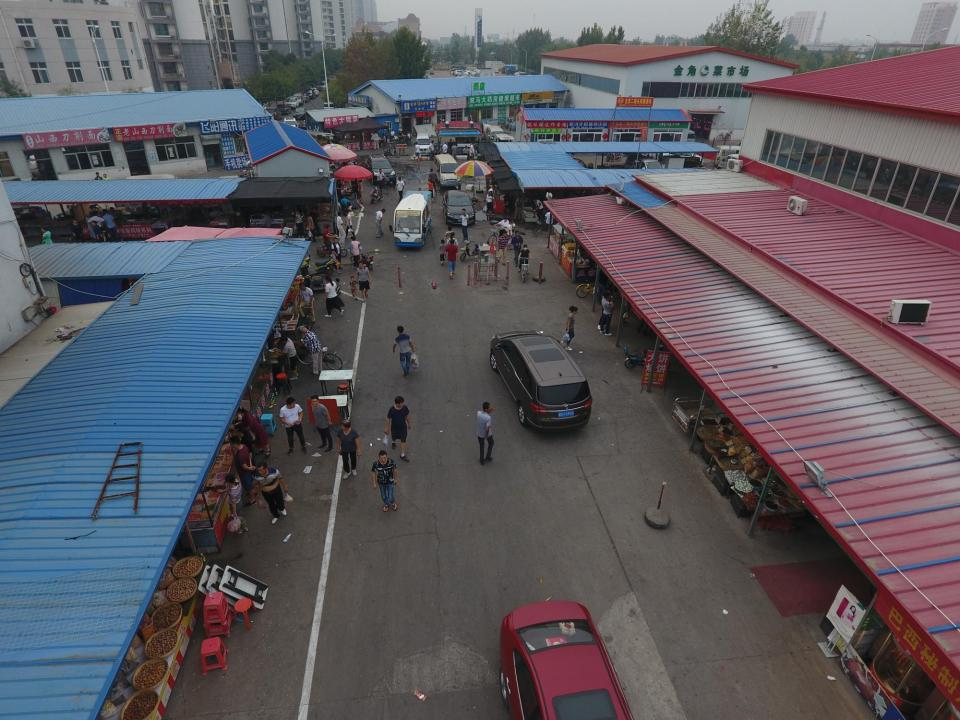bus: (389, 190, 432, 246)
car: (442, 189, 476, 226), (659, 148, 703, 166), (293, 108, 308, 120), (300, 93, 310, 103), (308, 88, 319, 96)
truck: (446, 124, 494, 142)
van: (500, 601, 635, 720), (490, 330, 592, 430), (622, 148, 664, 178), (717, 154, 757, 178), (433, 154, 461, 188), (365, 154, 396, 184), (711, 145, 749, 165), (300, 131, 334, 150), (490, 133, 513, 152), (414, 133, 432, 156), (676, 126, 696, 144), (486, 126, 504, 145), (263, 107, 283, 121), (282, 117, 299, 133), (323, 98, 338, 112), (284, 96, 299, 109), (275, 104, 291, 115), (292, 93, 304, 106), (303, 89, 316, 100), (318, 81, 329, 91)
